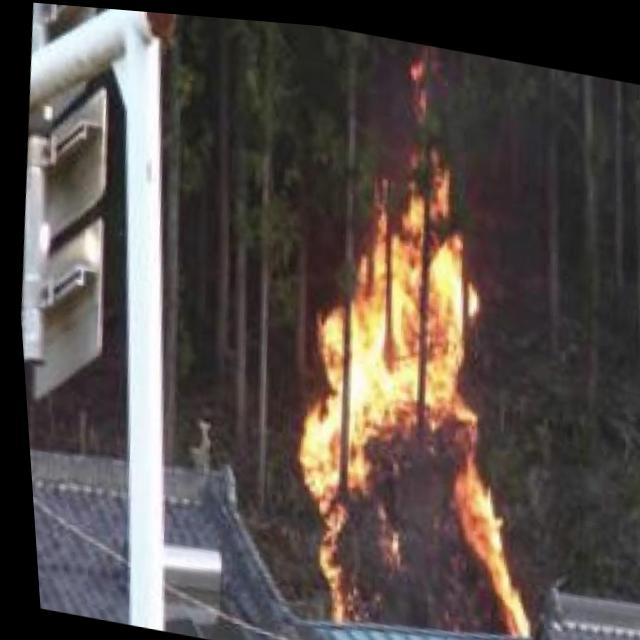Fire: (261, 144, 546, 634)
